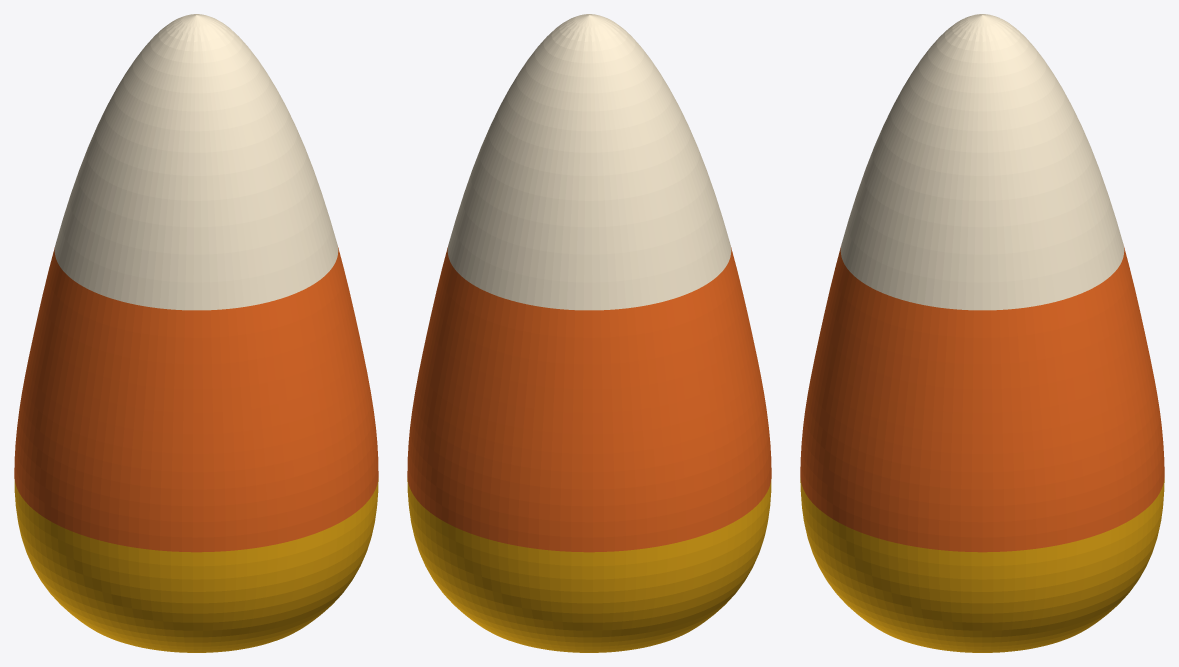
The model's file is candycord.gltf.
3 views of the same model, side by side, from view 1: azimuth 30°, elevation 25°; view 2: azimuth 150°, elevation 25°; view 3: azimuth 270°, elevation 25° (orthographic).
Visible parts, largest first — view 1: Sphere; view 2: Sphere; view 3: Sphere.
Part boxes in pixels (x1,y1,x2,y2): Sphere: (14,14,378,652); Sphere: (407,14,771,652); Sphere: (800,14,1164,652).
Size of the model in its own units: 2.05 by 3.65 by 2.05.
